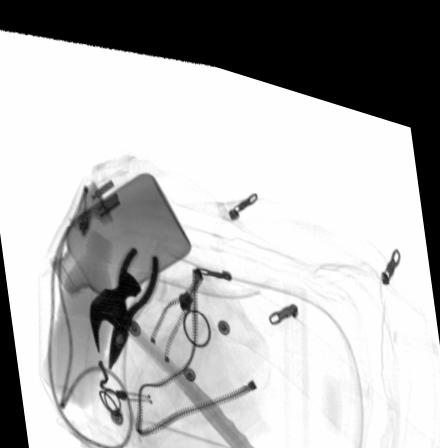Hammer: (89, 262, 277, 448)
Pliers: (107, 239, 158, 363)
